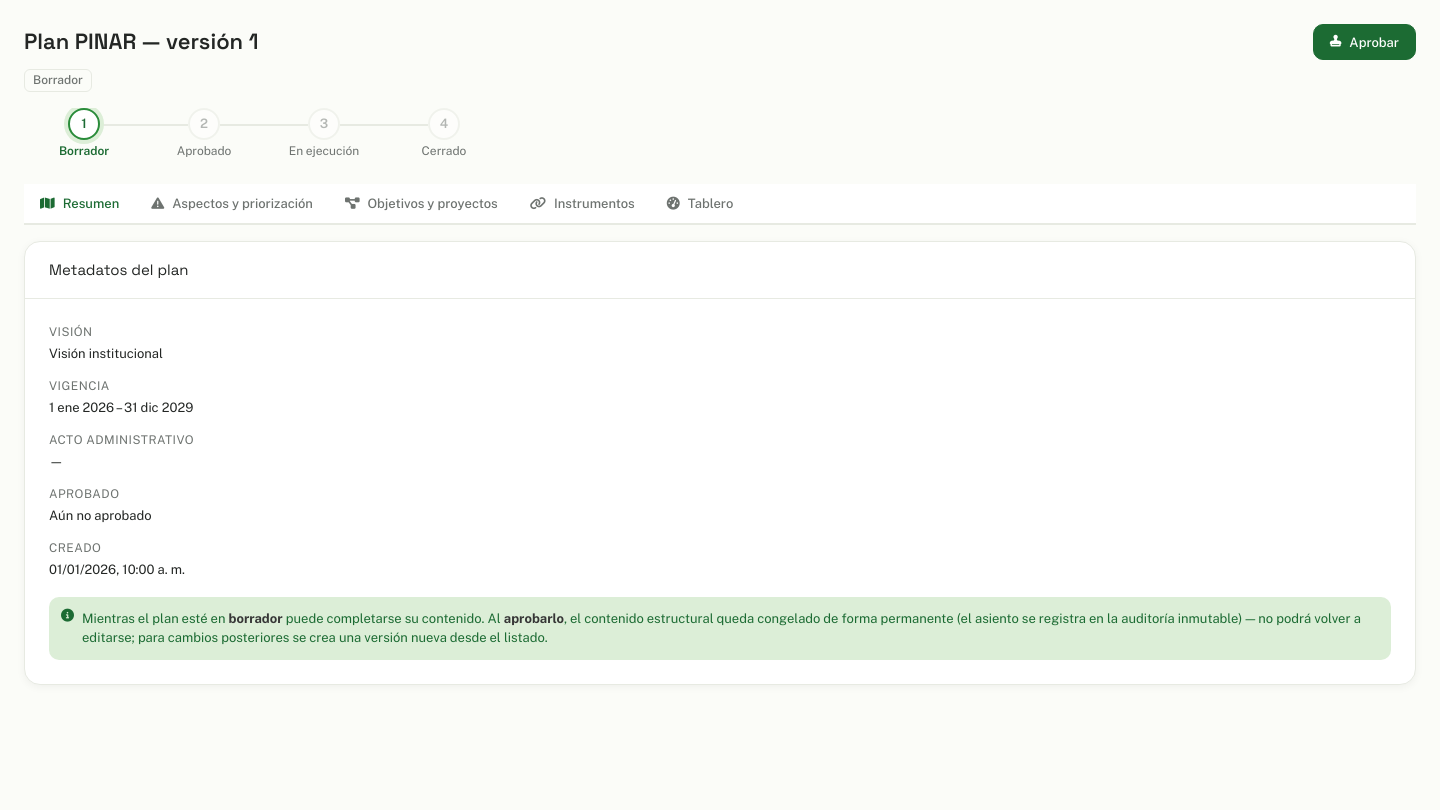
/admin/pinar/[id] — irreversibilidad de aprobar, advertida ANTES de confirmar › el Modal de aprobación advierte el congelamiento permanente del contenido
Click the button named "Aprobar".
click(1364, 42)  # box [1313,24,1416,60]
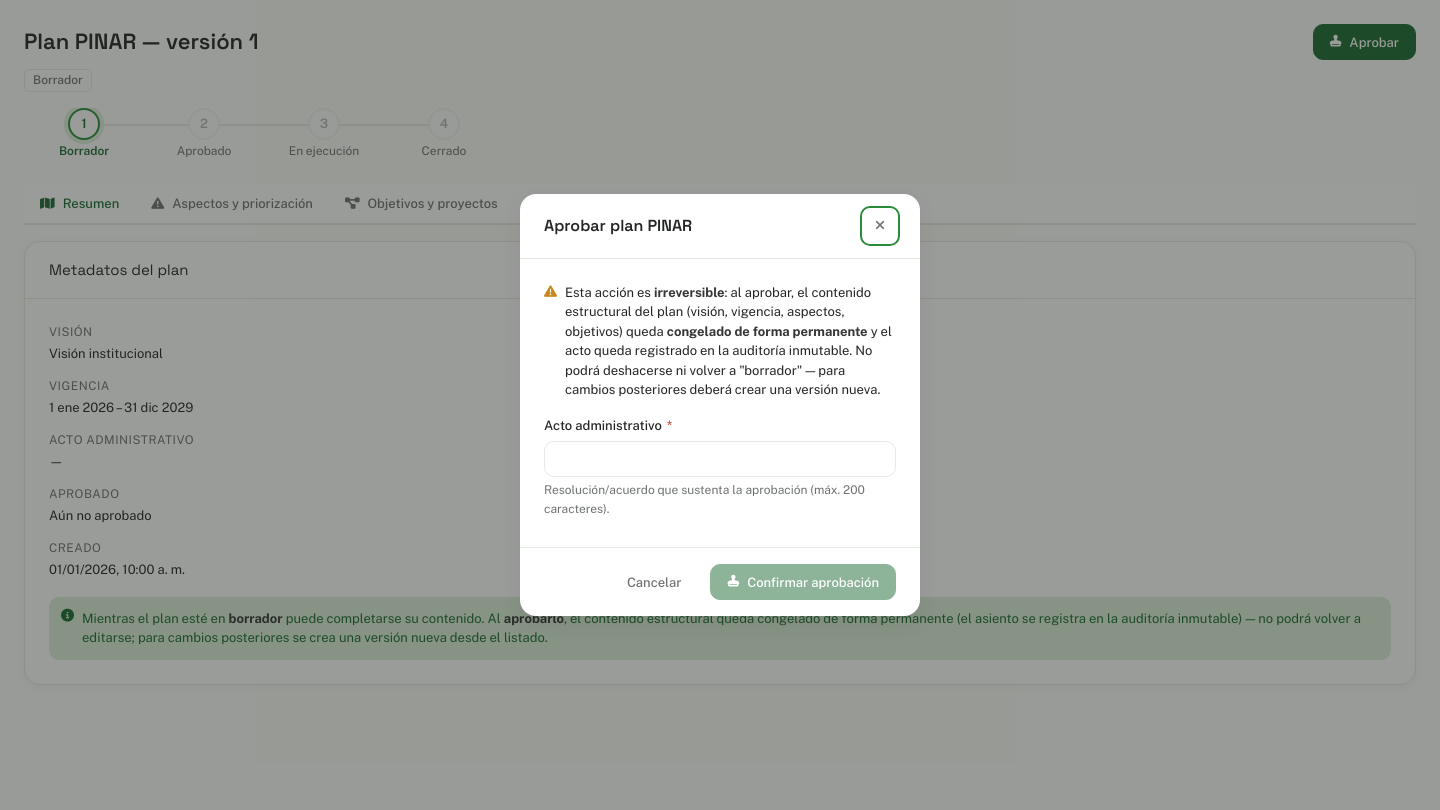
expect the text "irreversible" is shown: met, box [654,285,725,300]
expect the text "congelado de forma permanente" is shown: met, box [667,324,868,339]
